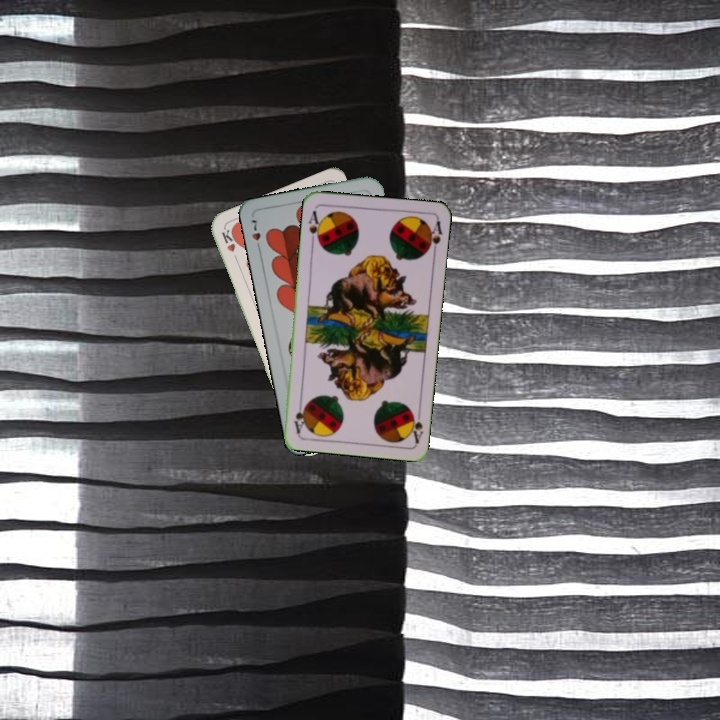H7: (247, 215, 263, 254)
HK: (217, 225, 241, 265)
SA: (304, 206, 324, 246), (405, 405, 425, 445)
